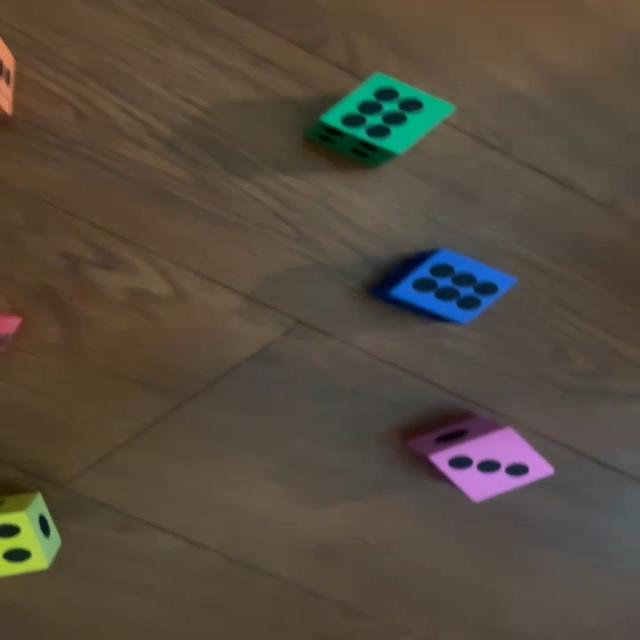blue_block: (371, 248, 518, 326)
red_block: (0, 314, 20, 353)
